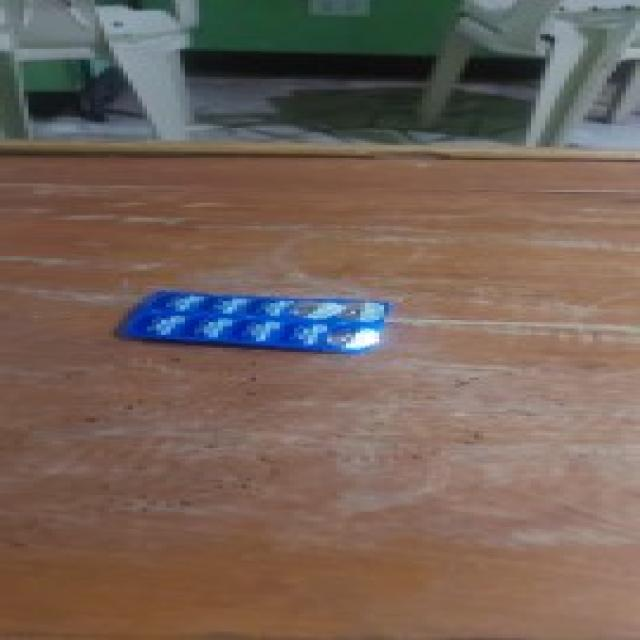Cacat: (120, 288, 391, 354)
Kemasan: (292, 296, 382, 324), (320, 326, 384, 350)
